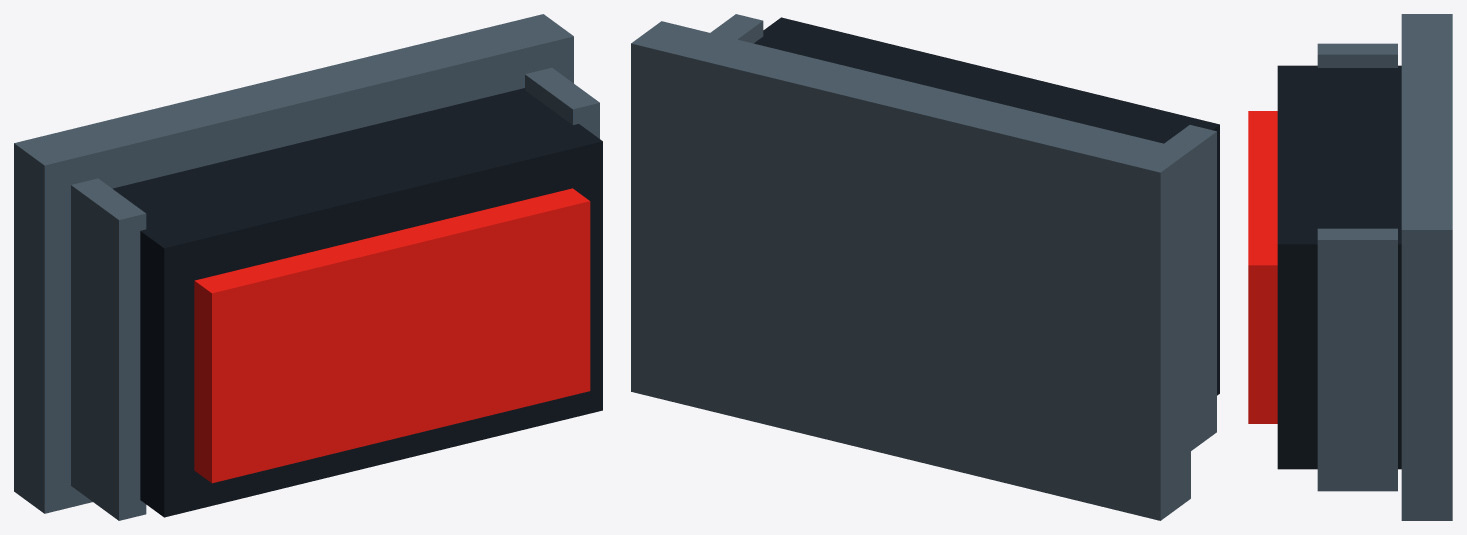
3 views of the same model, side by side, from view 1: azimuth 30°, elevation 25°; view 2: azimuth 150°, elevation 25°; view 3: azimuth 270°, elevation 25° (orthographic). The views are drawn at different scales.
Visible parts, largest first — view 1: P16-02_EmissionRed, P16-02_Steel, P16-02_DarkPanel; view 2: P16-02_Steel, P16-02_DarkPanel; view 3: P16-02_Steel, P16-02_DarkPanel, P16-02_EmissionRed.
Part boxes in pixels (<box>): P16-02_EmissionRed: <box>194,188,590,483</box>; P16-02_Steel: <box>14,14,599,520</box>; P16-02_DarkPanel: <box>113,88,602,517</box>; P16-02_Steel: <box>631,14,1216,520</box>; P16-02_DarkPanel: <box>754,17,1219,395</box>; P16-02_Steel: <box>1317,14,1452,520</box>; P16-02_DarkPanel: <box>1277,65,1401,469</box>; P16-02_EmissionRed: <box>1248,111,1277,423</box>.
Size of the model in its own units: 0.35 by 0.22 by 0.14.
